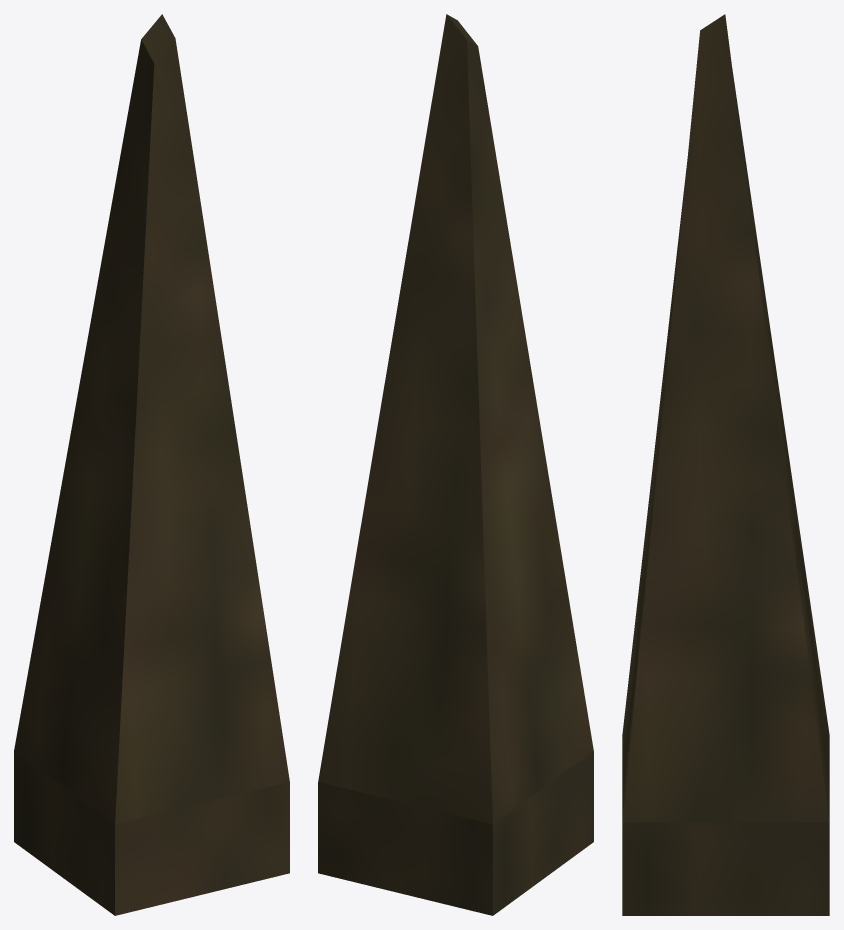
The model's file is wooden_spike_small_2.obj.
3 renders of one model, left to right at view 1: azimuth 30°, elevation 25°; view 2: azimuth 150°, elevation 25°; view 3: azimuth 270°, elevation 25°, orthographic. The views are drawn at different scales.
Visible parts, largest first — view 1: cuboid; view 2: cuboid; view 3: cuboid.
Part boxes in pixels (x1,y1,x2,y2): cuboid: (14, 14, 289, 915); cuboid: (318, 14, 593, 915); cuboid: (622, 14, 829, 915).
Bounding box in the file's own units: 0.25 × 1.15 × 0.25.
